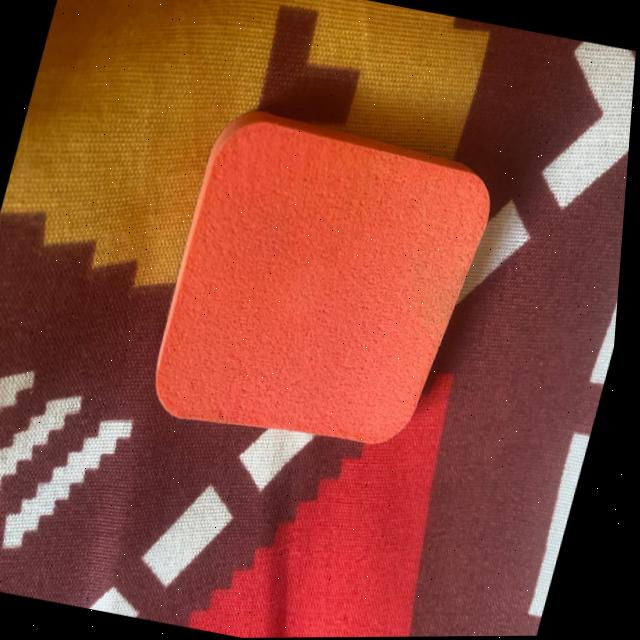beauty blender: (95, 88, 531, 487)
